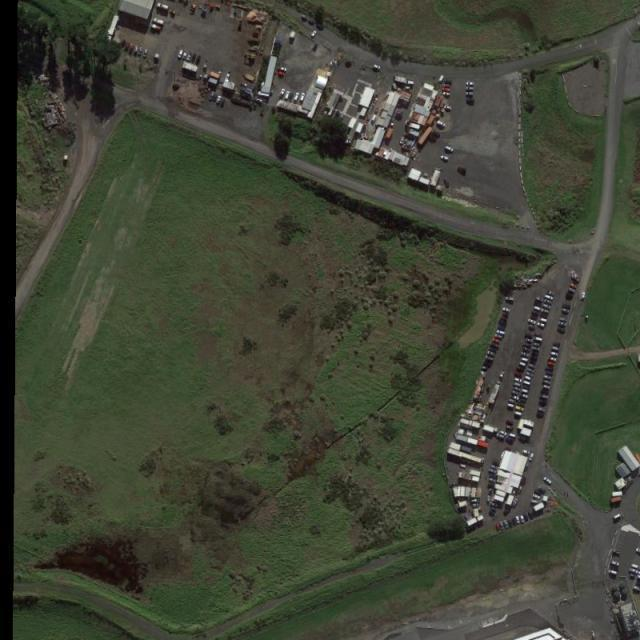vehicle: (436, 118, 448, 130), (537, 486, 548, 498), (520, 346, 533, 355), (152, 17, 165, 26), (555, 325, 566, 335), (495, 431, 506, 441), (443, 144, 454, 154), (286, 93, 296, 104), (442, 103, 454, 112), (150, 23, 162, 32), (502, 517, 510, 530), (157, 3, 170, 11), (543, 292, 554, 301), (506, 418, 518, 426), (526, 318, 538, 326), (279, 88, 286, 101), (522, 374, 532, 383), (542, 477, 552, 486), (440, 153, 450, 162), (497, 429, 508, 437), (567, 285, 578, 293), (522, 380, 533, 388), (542, 302, 553, 310), (489, 342, 500, 350), (142, 49, 150, 60), (456, 166, 467, 174), (535, 406, 547, 413), (486, 494, 493, 506), (484, 355, 496, 362), (190, 53, 197, 65), (283, 90, 290, 102), (299, 93, 306, 105), (489, 471, 498, 480), (562, 302, 572, 310), (502, 506, 510, 516), (519, 350, 529, 358), (292, 92, 300, 102), (612, 513, 622, 521), (169, 6, 177, 16), (560, 307, 571, 314), (546, 359, 557, 366), (539, 390, 550, 397), (537, 402, 548, 409), (528, 451, 535, 462), (514, 365, 525, 372), (507, 398, 518, 405), (514, 405, 525, 412), (543, 298, 554, 305), (499, 520, 506, 531), (486, 350, 497, 357), (120, 39, 127, 50), (195, 56, 202, 67), (543, 384, 552, 392), (505, 436, 514, 444), (513, 371, 522, 379), (533, 341, 542, 349), (508, 516, 514, 528), (482, 360, 494, 366), (546, 288, 555, 296), (533, 300, 542, 308), (610, 560, 622, 566), (443, 177, 449, 189), (310, 29, 318, 38), (530, 351, 540, 358), (470, 498, 480, 505), (488, 347, 498, 354), (530, 308, 540, 315), (219, 98, 226, 108), (441, 86, 451, 93), (559, 316, 570, 322), (558, 320, 569, 326), (519, 356, 530, 362), (528, 510, 534, 521), (523, 513, 529, 524), (491, 338, 502, 344), (466, 81, 477, 87), (523, 333, 534, 339), (125, 41, 131, 52), (137, 47, 143, 58), (506, 402, 514, 410), (538, 322, 546, 330), (374, 63, 382, 71), (566, 290, 575, 297), (564, 294, 573, 301), (519, 361, 528, 368), (541, 307, 550, 314), (530, 355, 539, 362), (466, 90, 475, 97), (481, 365, 490, 372), (527, 325, 536, 332), (629, 566, 638, 573), (509, 394, 519, 400), (538, 317, 548, 323), (490, 464, 500, 470), (486, 469, 498, 474), (487, 477, 497, 483), (512, 498, 518, 508), (520, 513, 525, 525), (524, 338, 534, 344), (465, 86, 475, 92), (464, 100, 474, 106), (493, 334, 503, 340), (529, 314, 539, 320), (216, 94, 222, 104), (443, 78, 453, 84), (514, 375, 522, 382), (570, 282, 578, 289), (526, 367, 534, 374), (502, 306, 510, 313), (536, 295, 543, 303), (629, 571, 637, 578), (543, 371, 554, 376), (522, 341, 533, 346), (182, 50, 187, 61), (186, 51, 191, 62), (209, 90, 214, 101), (610, 565, 621, 570), (520, 394, 529, 400), (521, 388, 530, 394), (540, 312, 549, 318), (531, 347, 540, 353), (525, 371, 534, 377), (491, 502, 500, 508), (505, 296, 514, 302), (532, 304, 541, 310), (442, 90, 451, 96), (442, 82, 451, 88), (609, 569, 618, 575), (301, 14, 310, 20), (544, 366, 554, 371), (535, 414, 545, 419), (552, 341, 562, 346), (548, 356, 558, 361), (508, 433, 518, 438), (496, 523, 501, 533), (496, 326, 506, 331), (581, 291, 586, 301), (542, 376, 554, 380), (538, 396, 546, 402), (522, 449, 530, 455), (518, 398, 526, 404), (534, 336, 542, 342), (528, 362, 536, 368), (513, 514, 517, 526), (130, 42, 134, 54), (134, 45, 138, 57), (278, 66, 286, 72), (278, 72, 286, 78), (630, 562, 638, 568), (510, 390, 519, 395), (533, 493, 542, 498), (178, 50, 183, 59), (511, 386, 522, 390), (495, 330, 506, 334), (634, 545, 640, 552), (634, 585, 640, 592), (550, 350, 558, 355), (551, 346, 560, 350), (513, 382, 522, 386), (633, 582, 640, 587), (517, 513, 520, 524), (506, 426, 514, 430), (471, 504, 479, 508), (634, 578, 640, 582), (542, 382, 553, 384), (638, 569, 640, 574), (637, 575, 640, 578)
